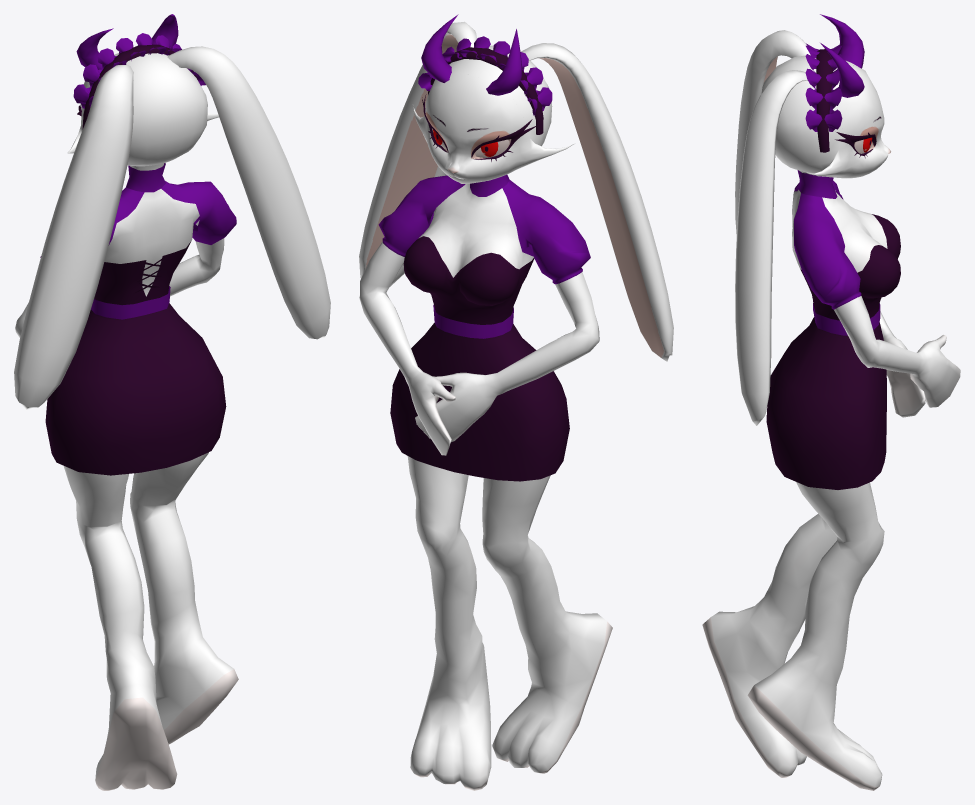
File: usagi_Farmer.fbx
The picture shows the model from 3 angles, left to right: view 1: azimuth 30°, elevation 25°; view 2: azimuth 150°, elevation 25°; view 3: azimuth 270°, elevation 25°; orthographic projection.
Parts seen in each view (by area): view 1: usagi_Missionary; view 2: usagi_Missionary; view 3: usagi_Missionary.
Part boxes in pixels (x1,y1,x2,y2): usagi_Missionary: (14, 14, 330, 790); usagi_Missionary: (359, 14, 673, 790); usagi_Missionary: (702, 14, 960, 790).
Bounding box in the file's own units: 297 × 690 × 216.
